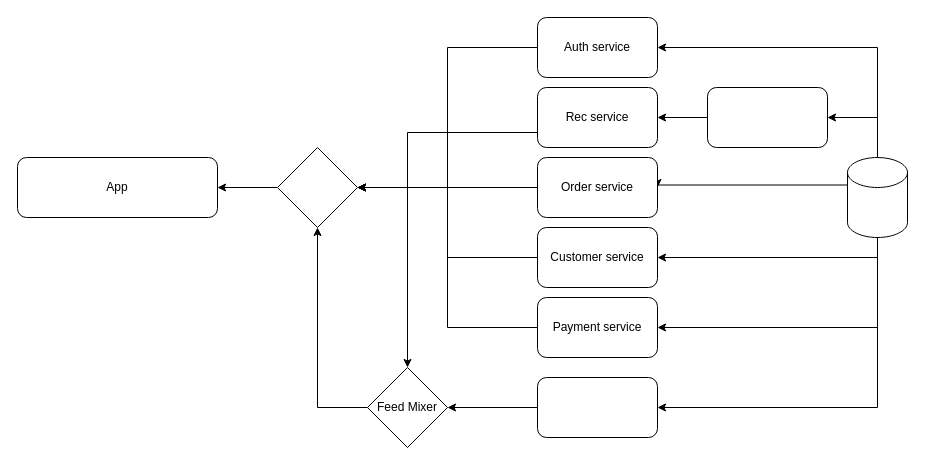
Image size: 925x465. Some labels were removed from this diagram. The centre of each missing label's shape, as x and y in pixels:
API gateway: (x=317, y=187)
DB: (x=877, y=197)
Promotional Content service: (x=597, y=407)
Rec Modal: (x=767, y=117)
